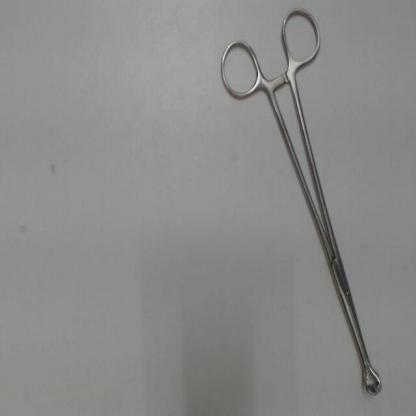8 Babcock Tissue Forceps: (214, 2, 388, 400)
